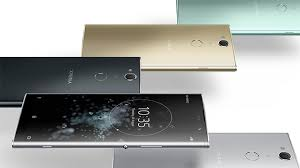sony: (11, 90, 217, 150)
